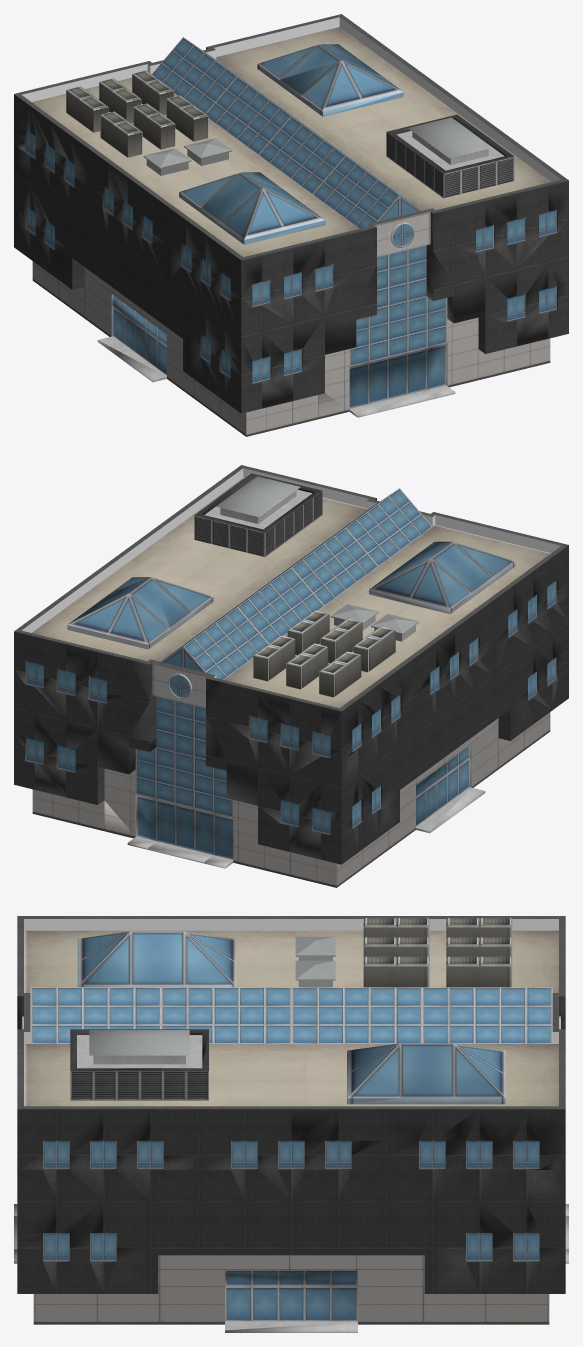
3 views of the same model, one above another, from view 1: azimuth 30°, elevation 25°; view 2: azimuth 150°, elevation 25°; view 3: azimuth 270°, elevation 25° (orthographic). The views are drawn at different scales.
Parts seen in each view (by area): view 1: MainBuilding; view 2: MainBuilding; view 3: MainBuilding.
Part boxes in pixels (x1,y1,x2,y2): MainBuilding: (14,14,568,436); MainBuilding: (14,465,568,887); MainBuilding: (14,916,568,1332).
Size of the model in its own units: 1.96 by 1.2 by 2.35.
Materials: 1 (1 with a texture image).
